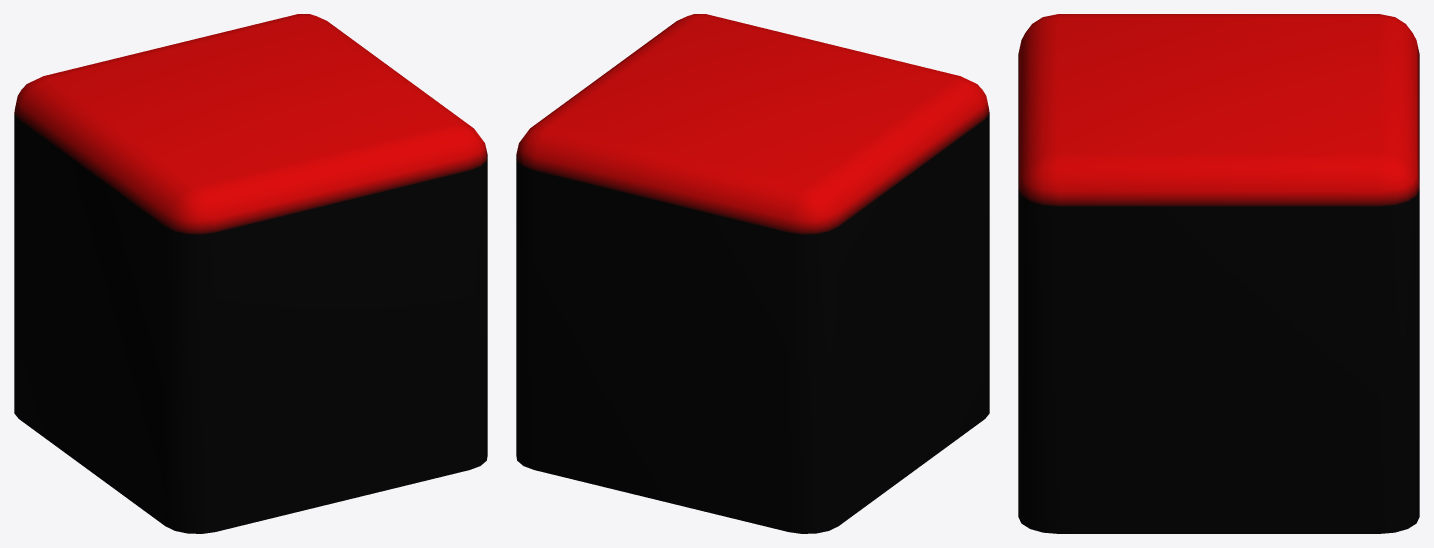
File: PlatformRoundedCube.fbx
3 renders of one model, left to right at view 1: azimuth 30°, elevation 25°; view 2: azimuth 150°, elevation 25°; view 3: azimuth 270°, elevation 25°, orthographic. The views are drawn at different scales.
Visible parts, largest first — view 1: PlatformRoundedCube; view 2: PlatformRoundedCube; view 3: PlatformRoundedCube.
Boxes of the visible parts, x1,y1,x2,y2 form: PlatformRoundedCube: [14, 14, 487, 533]; PlatformRoundedCube: [516, 14, 989, 533]; PlatformRoundedCube: [1018, 14, 1419, 533].
Bounding box in the file's own units: 1 × 1 × 1.
